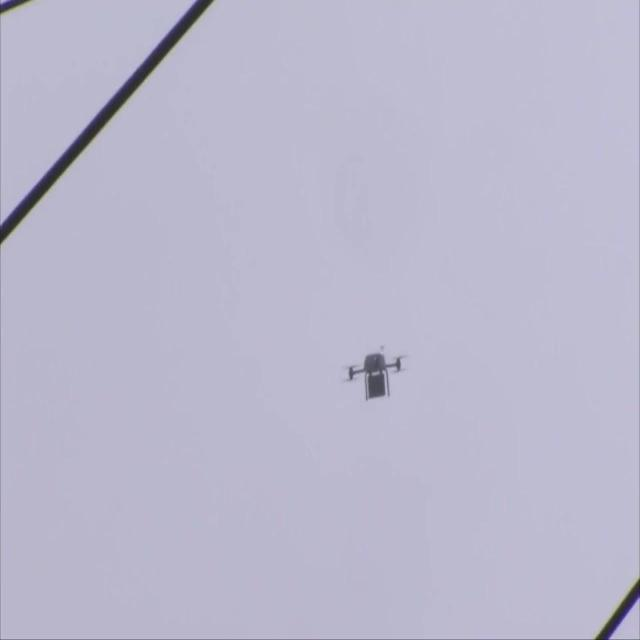drone: (347, 343, 406, 403)
